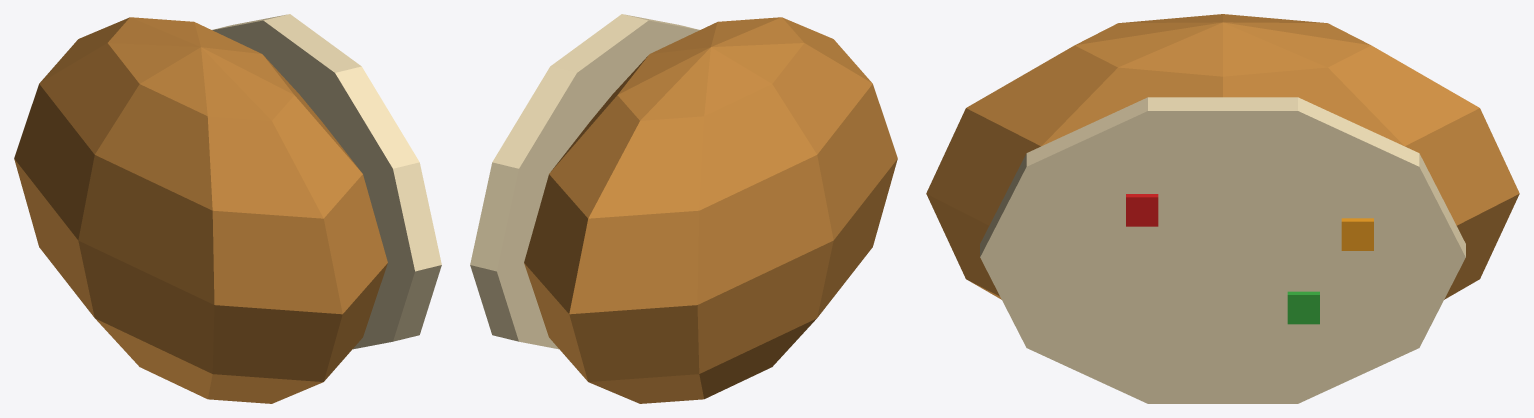
The model's file is sweet_bread_half.glb.
3 views of the same model, side by side, from view 1: azimuth 30°, elevation 25°; view 2: azimuth 150°, elevation 25°; view 3: azimuth 270°, elevation 25° (orthographic). The views are drawn at different scales.
Parts seen in each view (by area): view 1: bread_crust, bread_crumb; view 2: bread_crust, bread_crumb; view 3: bread_crumb, bread_crust, fruit_fruit_3ab040, fruit_fruit_d82020, fruit_fruit_f2a020.
Part boxes in pixels (x1,y1,x2,y2): bread_crust: (14,17,387,403); bread_crumb: (212,14,441,349); bread_crust: (524,17,897,403); bread_crumb: (470,14,699,349); bread_crumb: (980,97,1465,403); bread_crust: (926,14,1519,299); fruit_fruit_3ab040: (1287,291,1319,324); fruit_fruit_d82020: (1126,194,1158,226); fruit_fruit_f2a020: (1341,218,1373,250).
Size of the model in its own units: 0.114 by 0.14 by 0.22.
